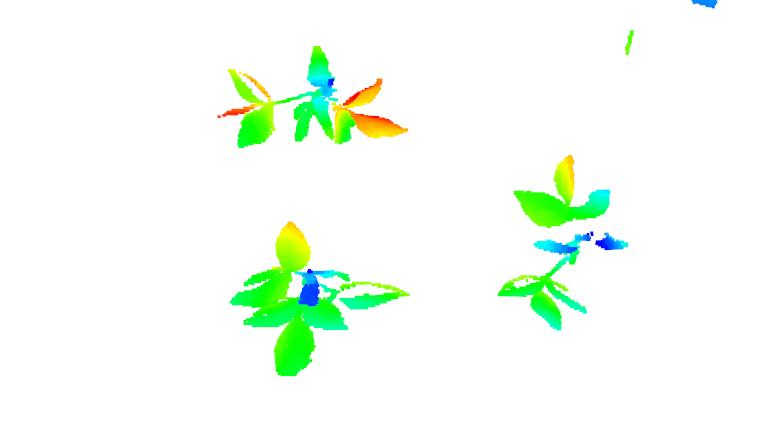mungbean: (226, 215, 418, 376), (491, 154, 627, 337), (207, 44, 414, 149)
